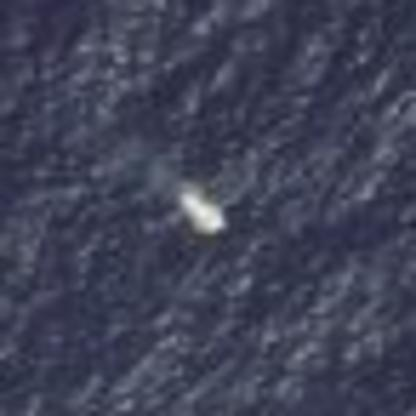ship: (167, 182, 233, 240)
